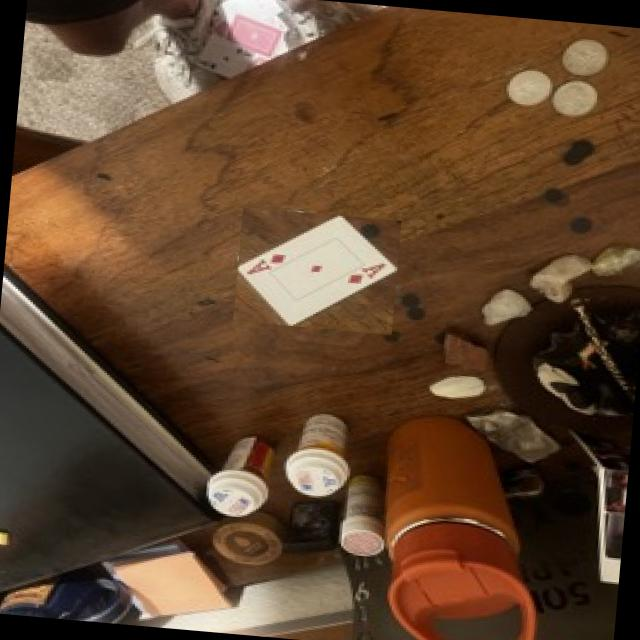Ace of diamonds: (238, 214, 396, 323)
